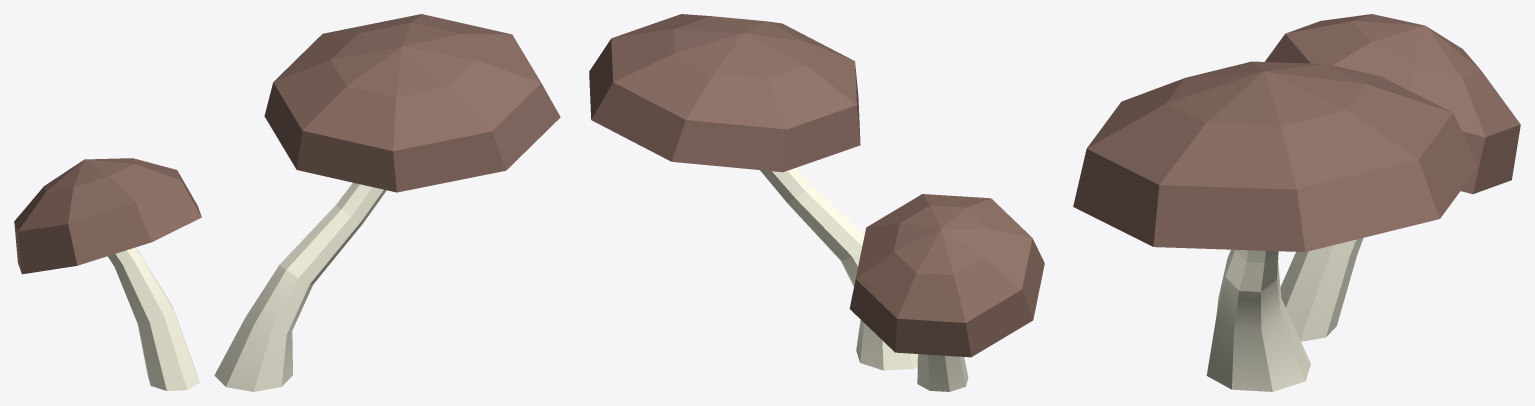
Rendered from mushroom_008.fbx.
The picture shows the model from 3 angles, left to right: view 1: azimuth 30°, elevation 25°; view 2: azimuth 150°, elevation 25°; view 3: azimuth 270°, elevation 25°; orthographic projection. The views are drawn at different scales.
Parts seen in each view (by area): view 1: mushroom.008; view 2: mushroom.008; view 3: mushroom.008.
Boxes of the visible parts, left/top/right/bottom form: mushroom.008: left=14, top=14, right=560, bottom=391; mushroom.008: left=589, top=14, right=1044, bottom=391; mushroom.008: left=1073, top=14, right=1520, bottom=391.
Size of the model in its own units: 552 by 321 by 326.
Materials: 1 (1 with a texture image).
